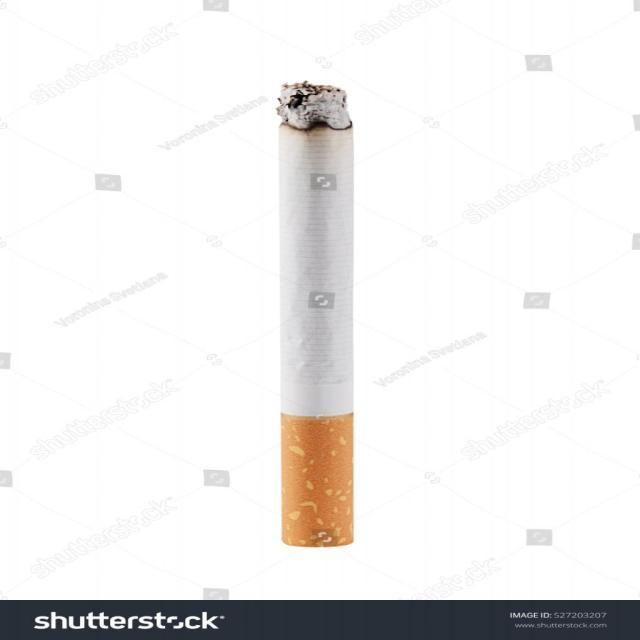smoking: (276, 81, 357, 549)
